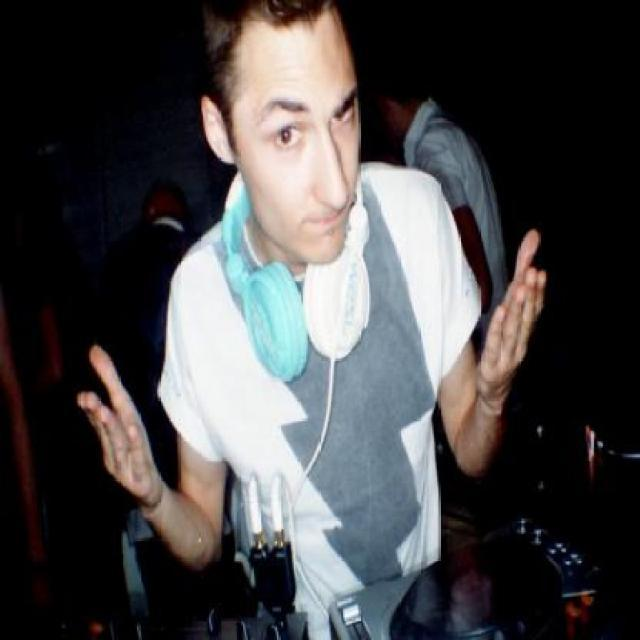earphone: (182, 206, 412, 385)
